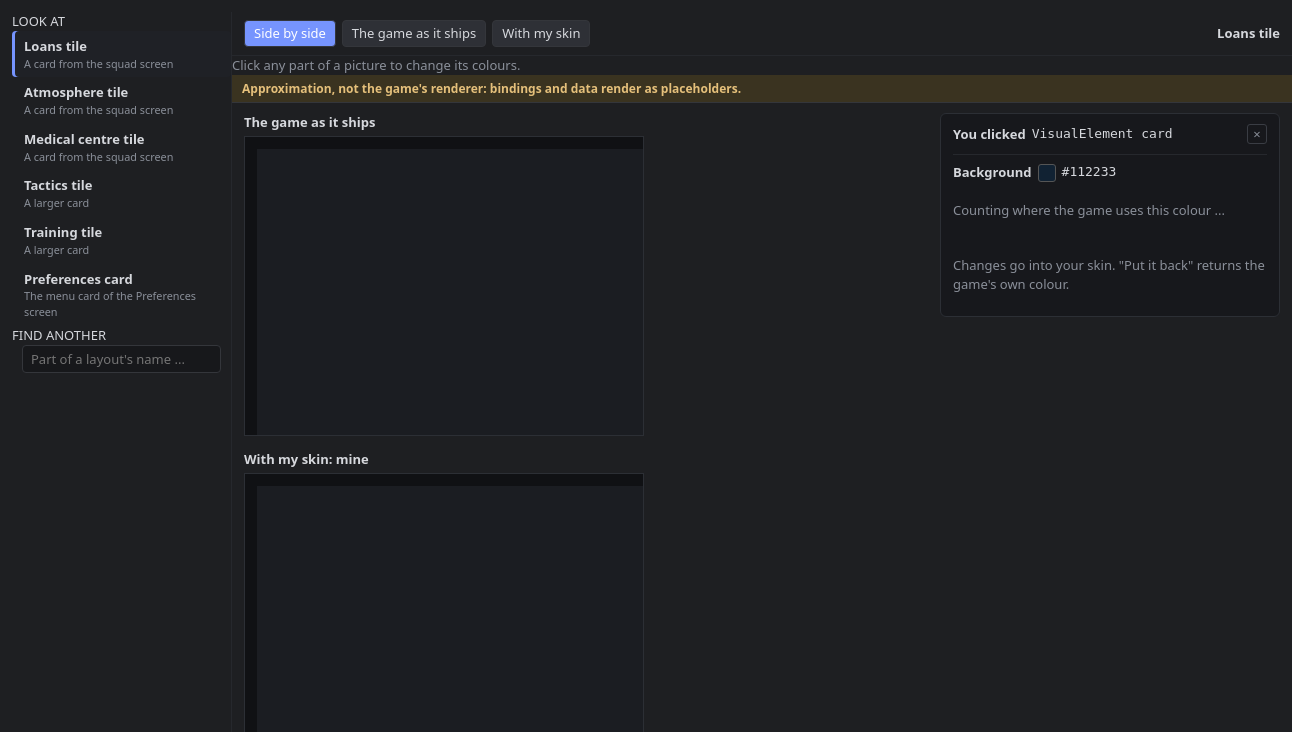
Test: Look at it › with a skin, clicking a part of a picture opens the recolour panel for that part; without a skin nothing opens
Earlier steps of the test are not shown.
Later steps or results of the test are not shown.
Check: the element with test id "recolour" is shown, box [940, 113, 1280, 318]
Check: the text "Background" is shown, box [953, 163, 1032, 182]
Step 1. Click the button named "Close" → (1257, 134), box [1247, 124, 1267, 144]
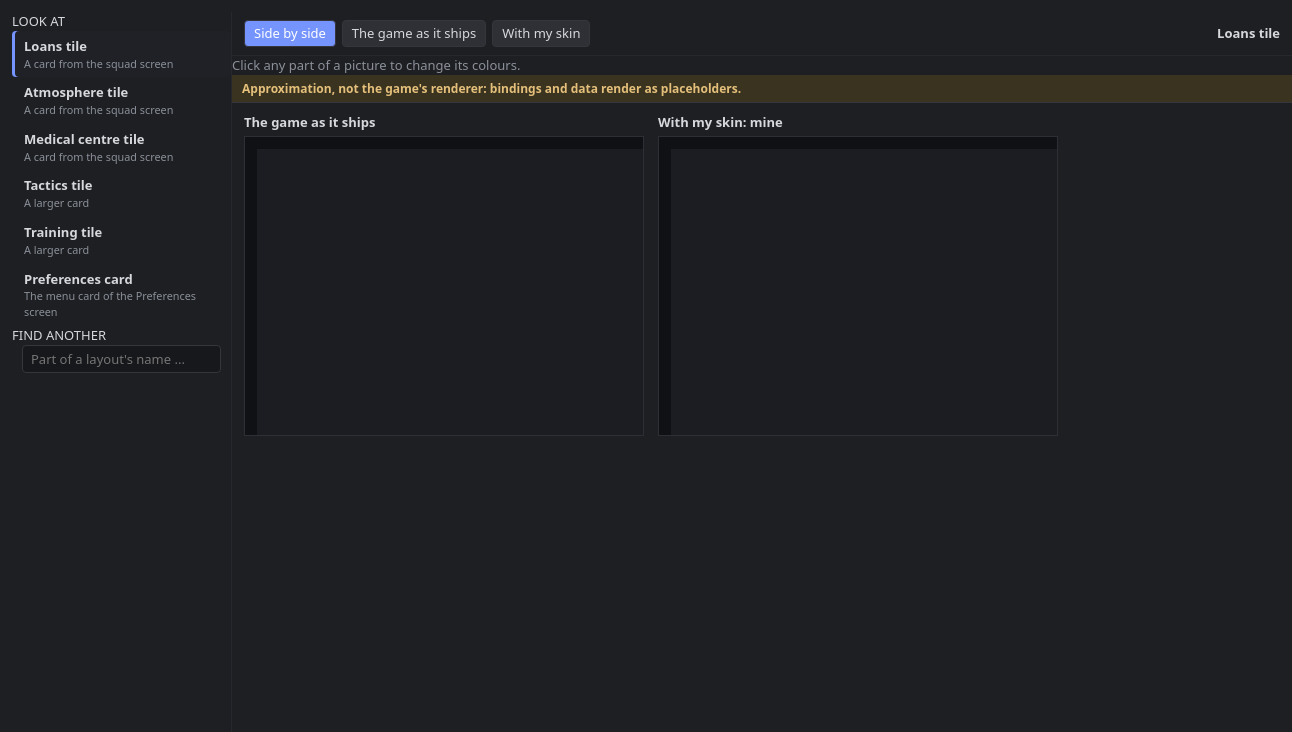
Check: the element with test id "recolour" is gone
